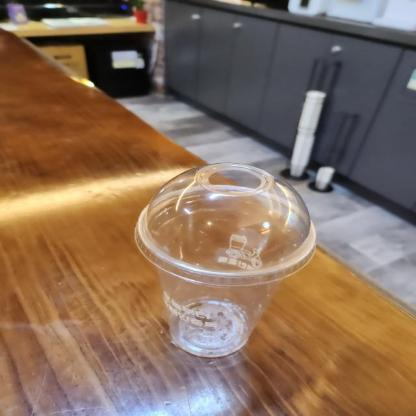Plastic Cup: (126, 151, 328, 291)
